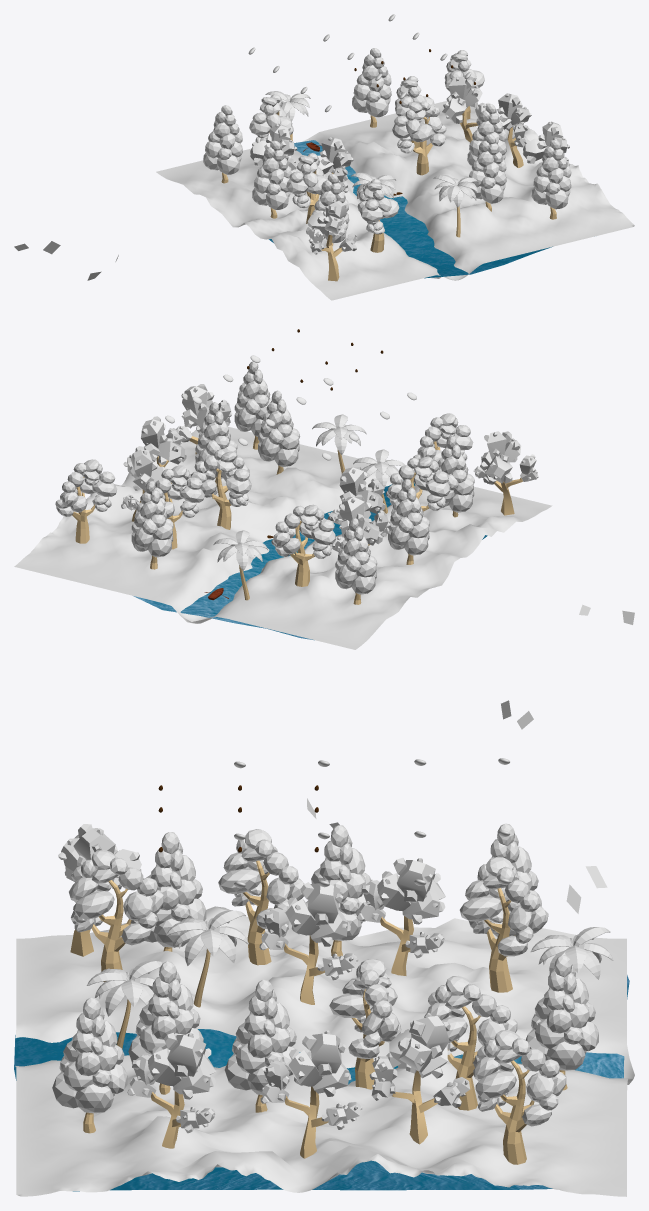
Rendered from forest9.fbx.
3 renders of one model, top to bottom at view 1: azimuth 30°, elevation 25°; view 2: azimuth 150°, elevation 25°; view 3: azimuth 270°, elevation 25°, orthographic. The views are drawn at different scales.
Parts seen in each view (by area): view 1: Landscape.001, stream, Oak, Poplar.003, Poplar.001, Poplar.004, Tree.004, Poplar.006, Poplar.002, Oak.004, Oak.001, Tree.003 (+12 smaller); view 2: Landscape.001, Oak.005, Oak.003, Oak, Tree.004, stream, Poplar.004, Poplar.001, Poplar.006, Poplar.002, Oak.001, Oak.002 (+12 smaller); view 3: Landscape.001, stream, Oak.003, Oak.004, Oak.005, Poplar.003, Tree.003, Tree.002, Tree.001, Oak.001, Tree, Tree.005 (+12 smaller).
Part boxes in pixels (x1=…): Landscape.001: x1=156, y1=101, x2=634, y2=300; stream: x1=269, y1=140, x2=552, y2=278; Oak: x1=392, y1=101, x2=446, y2=175; Poplar.003: x1=531, y1=140, x2=571, y2=219; Poplar.001: x1=203, y1=105, x2=242, y2=183; Poplar.004: x1=352, y1=48, x2=391, y2=127; Tree.004: x1=306, y1=199, x2=357, y2=281; Poplar.006: x1=252, y1=140, x2=291, y2=218; Poplar.002: x1=469, y1=134, x2=506, y2=211; Oak.004: x1=357, y1=178, x2=399, y2=252; Oak.001: x1=286, y1=153, x2=327, y2=223; Tree.003: x1=442, y1=77, x2=489, y2=142; Landscape.001: x1=14, y1=426, x2=552, y2=649; Oak.005: x1=271, y1=504, x2=335, y2=586; Oak.003: x1=55, y1=459, x2=117, y2=543; Oak: x1=190, y1=450, x2=251, y2=529; Tree.004: x1=473, y1=431, x2=538, y2=515; stream: x1=133, y1=482, x2=487, y2=640; Poplar.004: x1=131, y1=481, x2=173, y2=569; Poplar.001: x1=335, y1=518, x2=377, y2=604; Poplar.006: x1=388, y1=479, x2=429, y2=564; Poplar.002: x1=258, y1=390, x2=300, y2=474; Oak.001: x1=385, y1=456, x2=450, y2=511; Oak.002: x1=155, y1=465, x2=204, y2=549; Landscape.001: x1=15, y1=906, x2=634, y2=1196; stream: x1=14, y1=975, x2=629, y2=1191; Oak.003: x1=473, y1=1030, x2=566, y2=1164; Oak.004: x1=69, y1=850, x2=163, y2=982; Oak.005: x1=459, y1=856, x2=548, y2=992; Poplar.003: x1=52, y1=997, x2=127, y2=1133; Tree.003: x1=369, y1=1013, x2=470, y2=1144; Tree.002: x1=260, y1=1030, x2=362, y2=1158; Tree.001: x1=127, y1=1032, x2=216, y2=1148; Oak.001: x1=218, y1=829, x2=304, y2=965; Tree: x1=356, y1=858, x2=445, y2=975; Tree.005: x1=259, y1=880, x2=358, y2=1004.
Bounding box in the file's own units: 3645 × 1404 × 2440.
